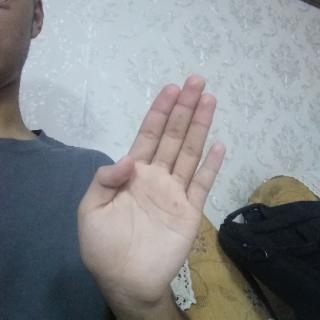SEEN: (69, 67, 245, 310)
